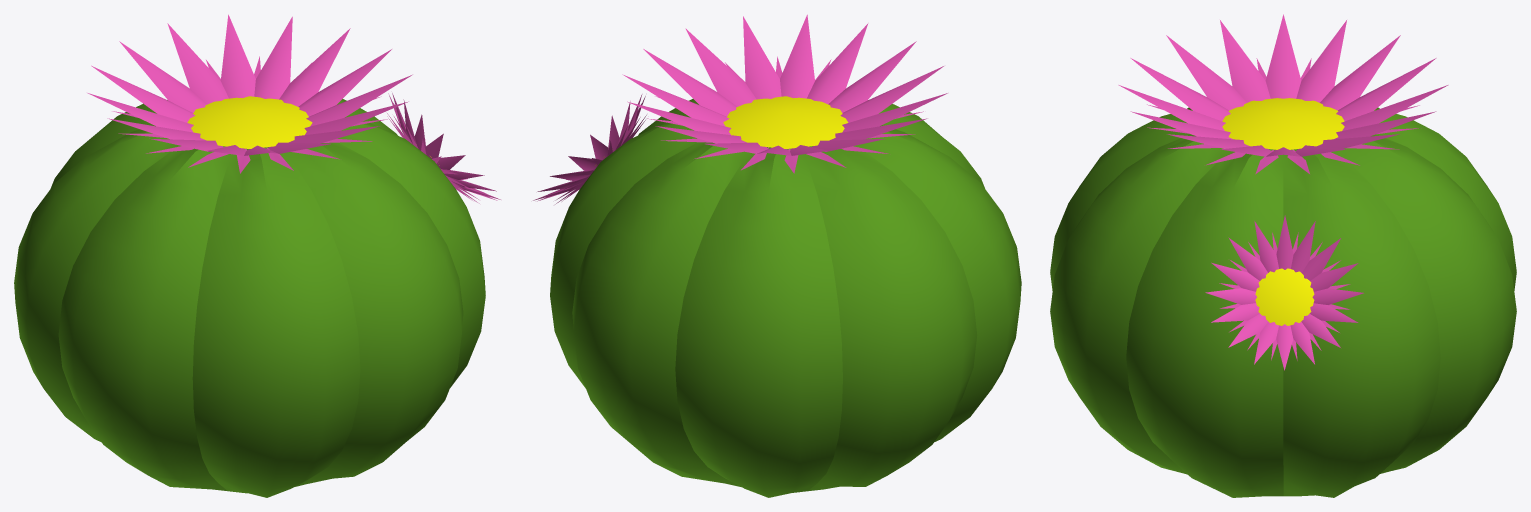
File: cactus03.fbx
3 renders of one model, left to right at view 1: azimuth 30°, elevation 25°; view 2: azimuth 150°, elevation 25°; view 3: azimuth 270°, elevation 25°, orthographic.
Visible parts, largest first — view 1: Cactus_03, Cactus_03_flowers; view 2: Cactus_03, Cactus_03_flowers; view 3: Cactus_03, Cactus_03_flowers.
Boxes of the visible parts, box(x1,y1,x2,y2) form: Cactus_03: box(14, 99, 485, 497); Cactus_03_flowers: box(87, 14, 500, 203); Cactus_03: box(550, 99, 1021, 497); Cactus_03_flowers: box(533, 14, 947, 204); Cactus_03: box(1050, 107, 1516, 497); Cactus_03_flowers: box(1118, 14, 1448, 370).
Bounding box in the file's own units: 0.8025 × 0.6529 × 0.7348.
Materials: 1 (1 with a texture image).
